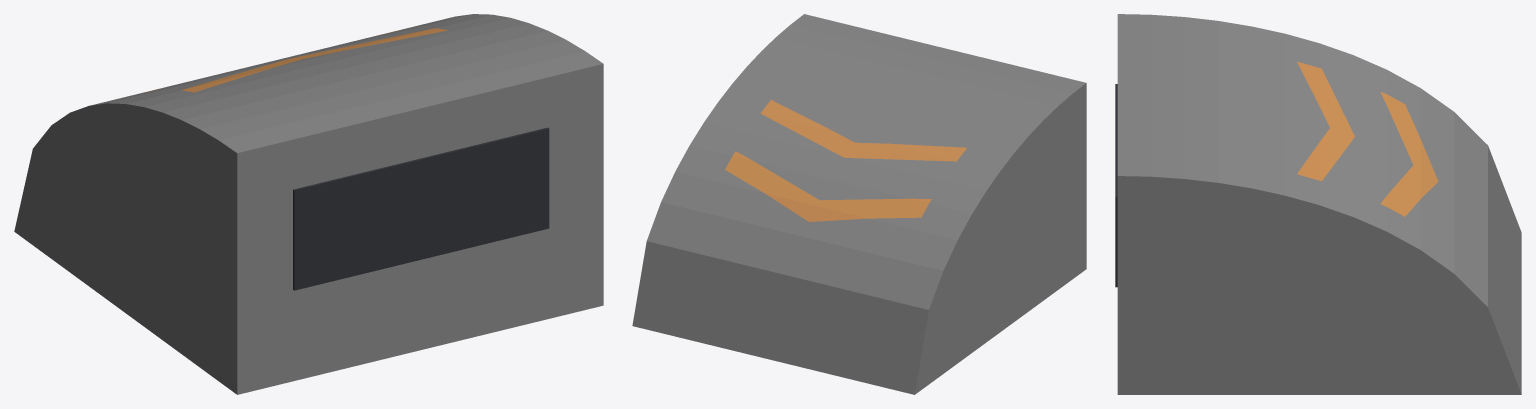
Rendered from vfef_ug_entrance.obj.
The picture shows the model from 3 angles, left to right: view 1: azimuth 30°, elevation 25°; view 2: azimuth 150°, elevation 25°; view 3: azimuth 270°, elevation 25°; orthographic projection. The views are drawn at different scales.
Visible parts, largest first — view 1: vfef_ug_entrance_0, vfef_ug_entrance_2, vfef_ug_entrance_1; view 2: vfef_ug_entrance_0, vfef_ug_entrance_1; view 3: vfef_ug_entrance_0, vfef_ug_entrance_1, vfef_ug_entrance_2.
Boxes of the visible parts, left/top/right/bottom form: vfef_ug_entrance_0: left=14, top=14, right=603, bottom=394; vfef_ug_entrance_2: left=293, top=127, right=549, bottom=290; vfef_ug_entrance_1: left=145, top=28, right=447, bottom=92; vfef_ug_entrance_0: left=632, top=14, right=1086, bottom=394; vfef_ug_entrance_1: left=725, top=100, right=966, bottom=221; vfef_ug_entrance_0: left=1117, top=14, right=1521, bottom=394; vfef_ug_entrance_1: left=1297, top=61, right=1438, bottom=216; vfef_ug_entrance_2: left=1115, top=84, right=1117, bottom=287.
Size of the model in its own units: 0.92 by 0.58 by 0.976.
